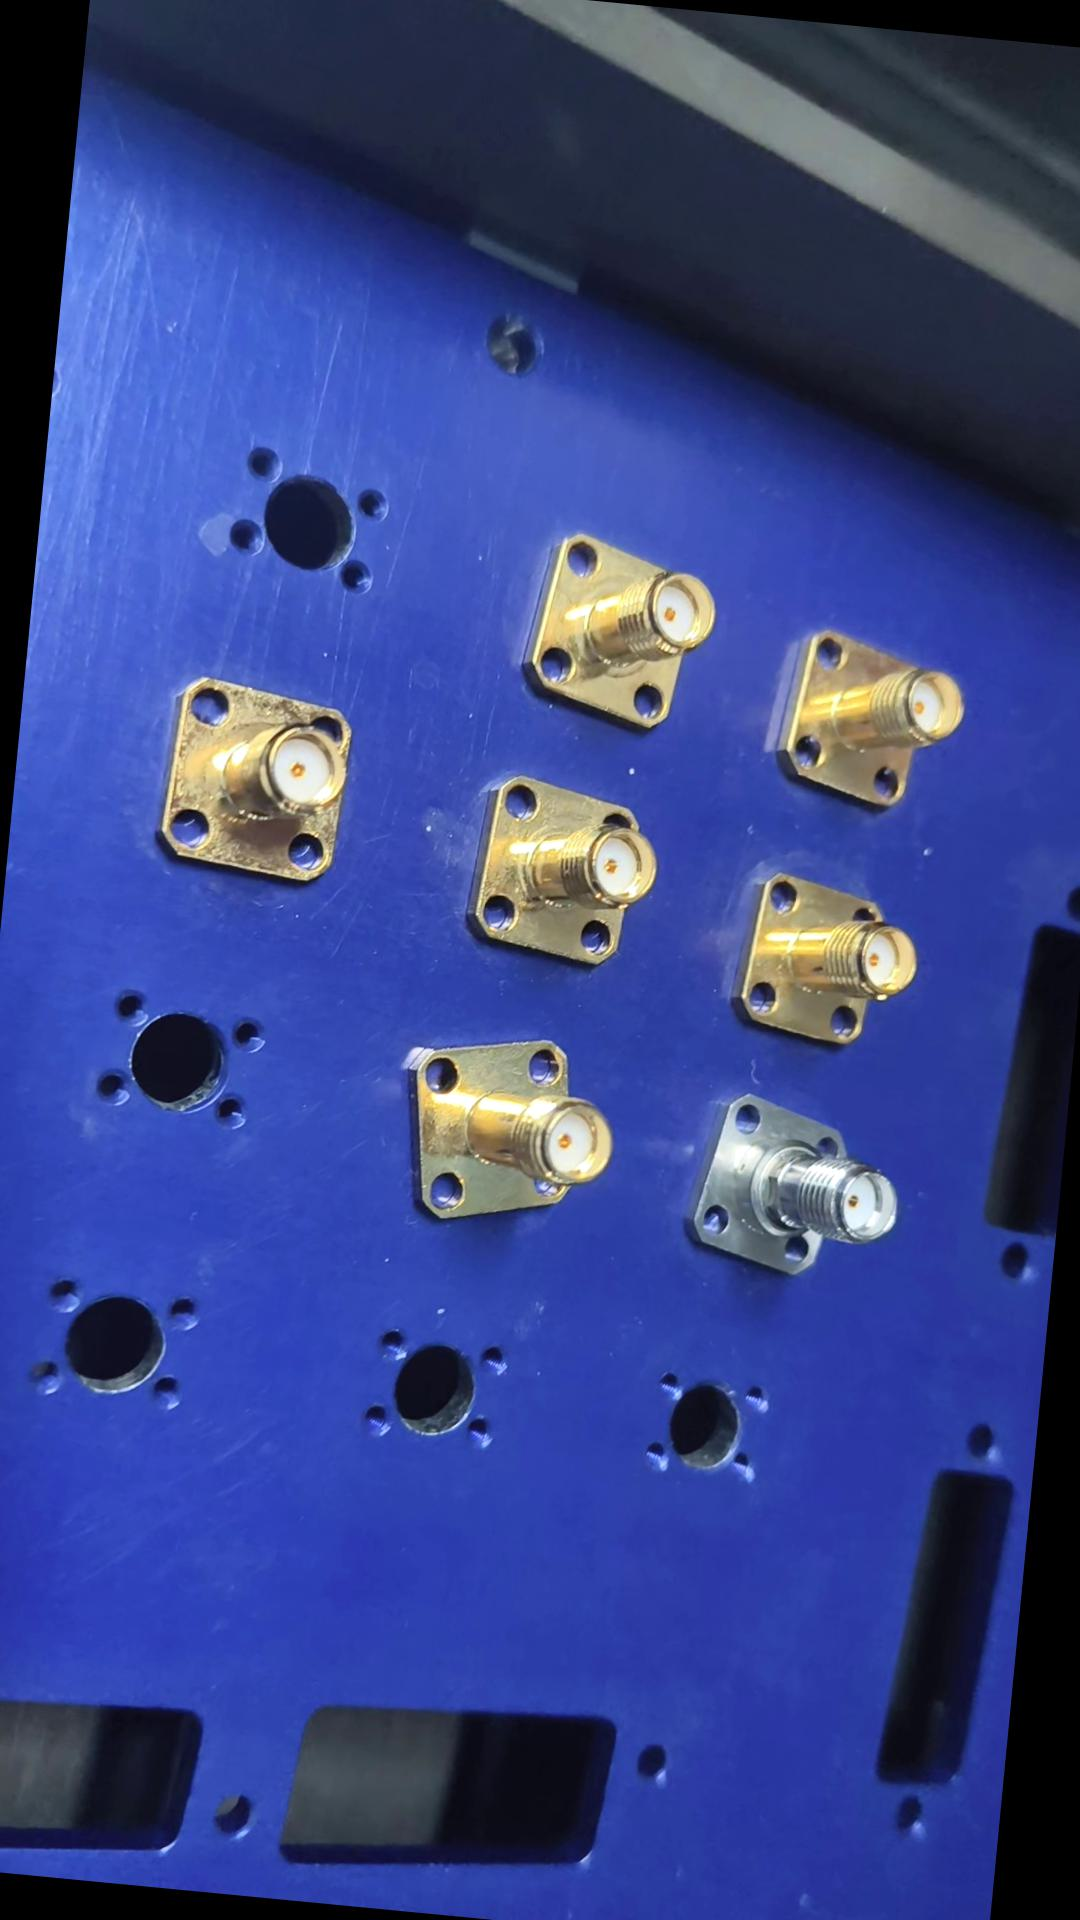SMA: (385, 1021, 622, 1244), (505, 524, 717, 738), (146, 670, 356, 884), (454, 767, 665, 972), (679, 1089, 905, 1278), (764, 626, 967, 820), (720, 870, 920, 1048)
